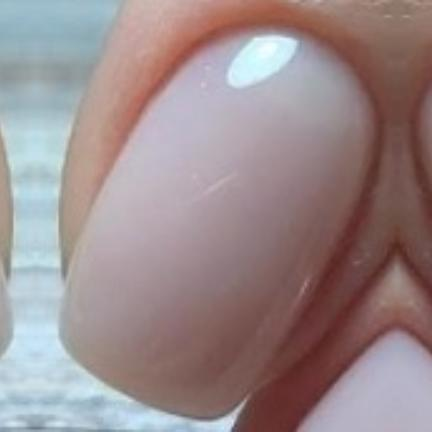Nail: (58, 25, 380, 421), (414, 78, 432, 198), (0, 264, 12, 356)
